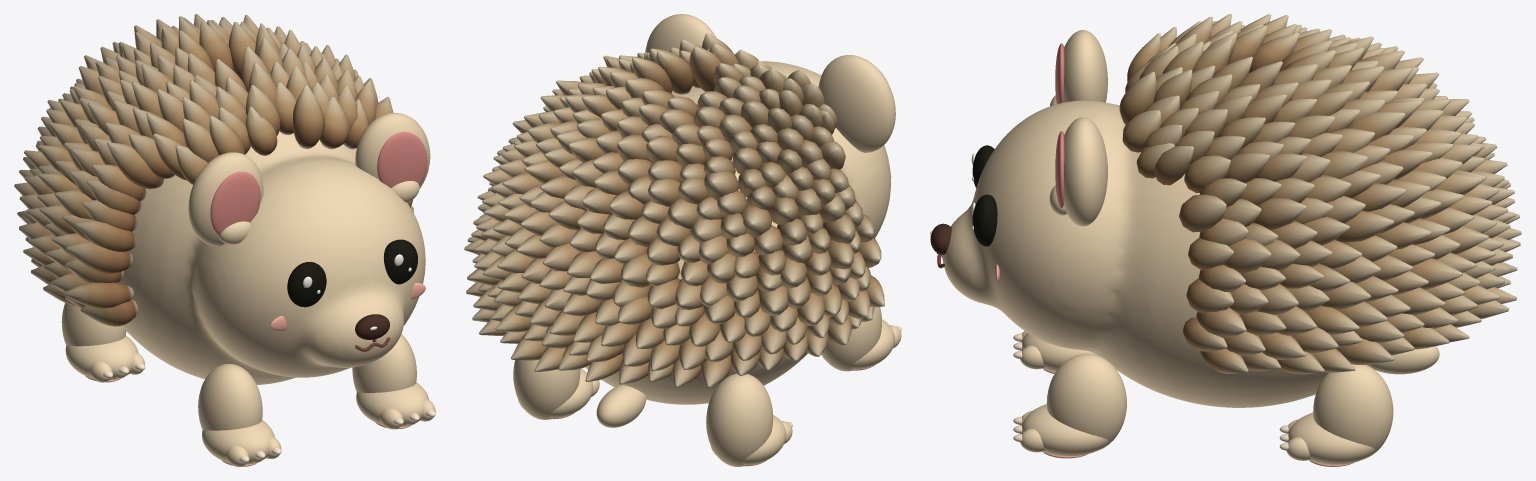
Rendered from hedgehog-stage-07.glb.
3 renders of one model, left to right at view 1: azimuth 30°, elevation 25°; view 2: azimuth 150°, elevation 25°; view 3: azimuth 270°, elevation 25°, orthographic. The views are drawn at different scales.
Parts seen in each view (by area): view 1: S07 • 315 individually formed rounded quills, S07 • seamless sculpted body and face, S07 • L front leg, S07 • L ear • outer rim, S07 • R front leg, S07 • L ear • recessed inner bowl, S07 • R ear • recessed inner bowl, S07 • R ear • outer rim, S07 • L rear paw, S07 • R front paw, S07 • L front paw, S07 • L rear leg (+4 smaller); view 2: S07 • 315 individually formed rounded quills, S07 • seamless sculpted body and face, S07 • L ear • outer rim, S07 • L rear leg, S07 • R rear leg, S07 • L front leg, S07 • R ear • outer rim, S07 • small tail, S07 • L rear paw, S07 • L front paw, S07 • R rear paw; view 3: S07 • 315 individually formed rounded quills, S07 • seamless sculpted body and face, S07 • R front leg, S07 • R rear leg, S07 • R ear • outer rim, S07 • L ear • outer rim, S07 • R rear paw, S07 • R front paw, S07 • small tail, S07 • R glossy eye, S07 • L front paw, S07 • R ear • recessed inner bowl.
Part boxes in pixels (x1=…): S07 • 315 individually formed rounded quills: x1=14, y1=14, x2=413, y2=326; S07 • seamless sculpted body and face: x1=118, y1=131, x2=425, y2=384; S07 • L front leg: x1=198, y1=364, x2=262, y2=430; S07 • L ear • outer rim: x1=188, y1=152, x2=263, y2=246; S07 • R front leg: x1=352, y1=334, x2=416, y2=392; S07 • L ear • recessed inner bowl: x1=210, y1=171, x2=260, y2=235; S07 • R ear • recessed inner bowl: x1=377, y1=132, x2=427, y2=187; S07 • R ear • outer rim: x1=355, y1=112, x2=430, y2=188; S07 • L rear paw: x1=65, y1=335, x2=138, y2=380; S07 • R front paw: x1=356, y1=382, x2=428, y2=426; S07 • L front paw: x1=202, y1=420, x2=274, y2=464; S07 • L rear leg: x1=61, y1=303, x2=126, y2=346; S07 • 315 individually formed rounded quills: x1=464, y1=33, x2=884, y2=387; S07 • seamless sculpted body and face: x1=585, y1=61, x2=890, y2=404; S07 • L ear • outer rim: x1=818, y1=55, x2=895, y2=152; S07 • L rear leg: x1=706, y1=373, x2=773, y2=466; S07 • R rear leg: x1=513, y1=359, x2=580, y2=419; S07 • L front leg: x1=822, y1=307, x2=881, y2=371; S07 • R ear • outer rim: x1=645, y1=14, x2=715, y2=52; S07 • small tail: x1=596, y1=385, x2=646, y2=427; S07 • L rear paw: x1=711, y1=415, x2=786, y2=465; S07 • L front paw: x1=821, y1=319, x2=894, y2=369; S07 • R rear paw: x1=518, y1=368, x2=593, y2=418; S07 • 315 individually formed rounded quills: x1=1119, y1=14, x2=1521, y2=374; S07 • seamless sculpted body and face: x1=942, y1=100, x2=1368, y2=407; S07 • R front leg: x1=1046, y1=353, x2=1126, y2=450; S07 • R rear leg: x1=1313, y1=364, x2=1393, y2=458; S07 • R ear • outer rim: x1=1064, y1=117, x2=1107, y2=226; S07 • L ear • outer rim: x1=1064, y1=30, x2=1107, y2=102; S07 • R rear paw: x1=1288, y1=412, x2=1375, y2=464; S07 • R front paw: x1=1022, y1=404, x2=1109, y2=456; S07 • small tail: x1=1368, y1=346, x2=1439, y2=374; S07 • R glossy eye: x1=972, y1=194, x2=997, y2=246; S07 • L front paw: x1=1022, y1=332, x2=1096, y2=371; S07 • R ear • recessed inner bowl: x1=1055, y1=131, x2=1064, y2=207.
Bounding box in the file's own units: 1.9 × 1.74 × 2.48.
